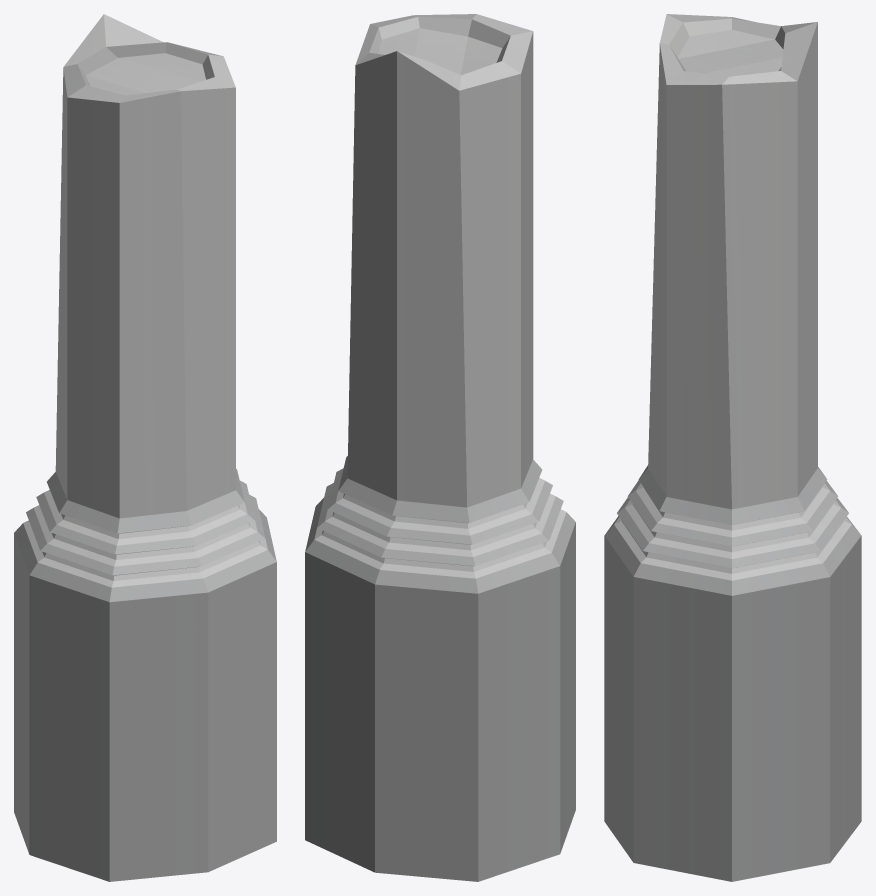
File: gas_station_column_B.glb
3 renders of one model, left to right at view 1: azimuth 30°, elevation 25°; view 2: azimuth 150°, elevation 25°; view 3: azimuth 270°, elevation 25°, orthographic. The views are drawn at different scales.
Visible parts, largest first — view 1: gas_station_column_B; view 2: gas_station_column_B; view 3: gas_station_column_B.
Part boxes in pixels (<box>): gas_station_column_B: <box>14,14,276,881</box>; gas_station_column_B: <box>305,14,575,881</box>; gas_station_column_B: <box>604,14,861,881</box>.
Size of the model in its own units: 0.7757 by 2.44 by 0.7113.
Materials: 1 (1 with a texture image).
